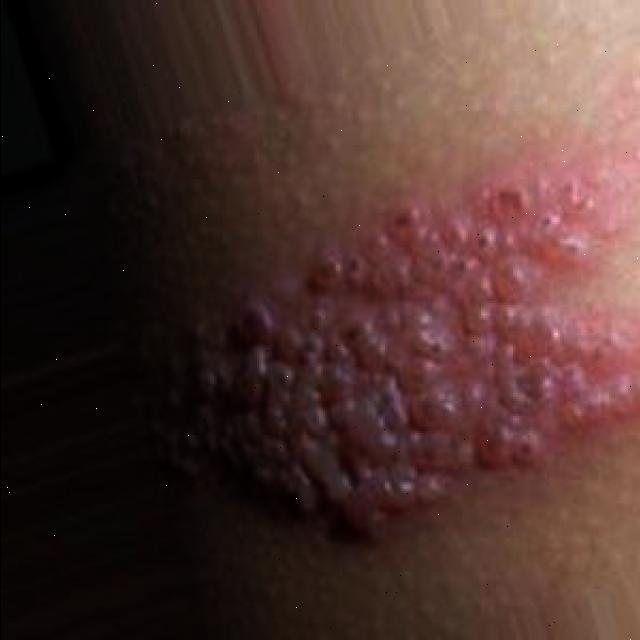Shingles: (192, 162, 640, 539)
